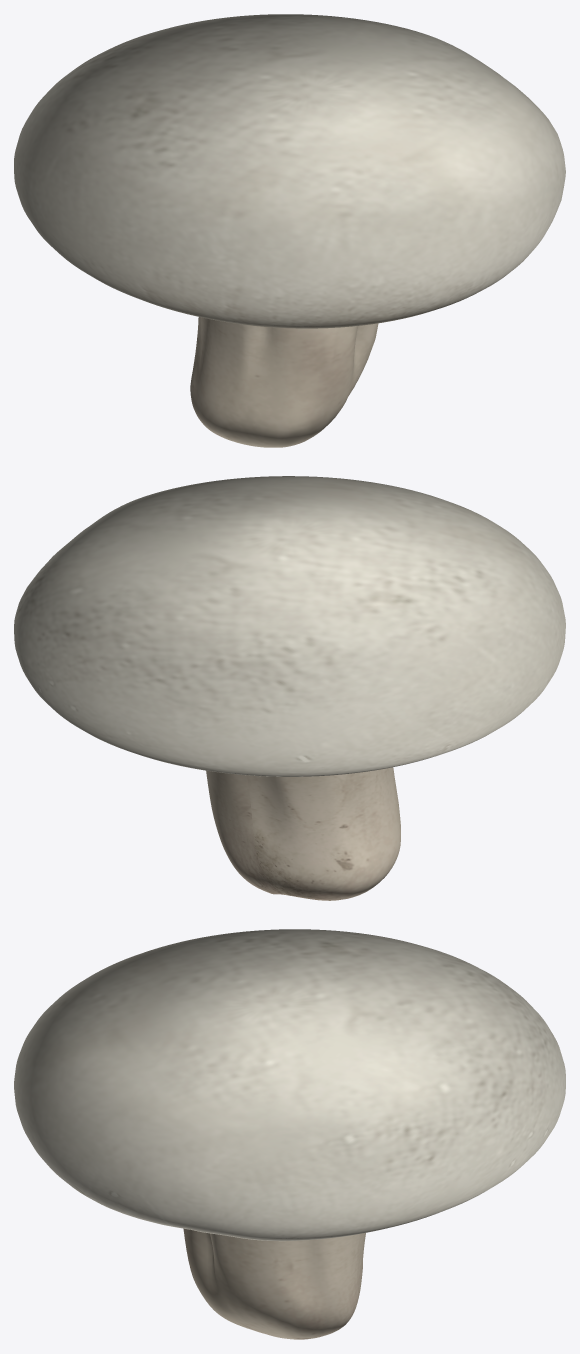
The model's file is SENE_23.fbx.
3 views of the same model, one above another, from view 1: azimuth 30°, elevation 25°; view 2: azimuth 150°, elevation 25°; view 3: azimuth 270°, elevation 25° (orthographic).
Parts seen in each view (by area): view 1: SENE_23; view 2: SENE_23; view 3: SENE_23.
Boxes of the visible parts, bbox=[...] form: SENE_23: bbox=[14, 14, 565, 447]; SENE_23: bbox=[14, 476, 565, 900]; SENE_23: bbox=[14, 929, 565, 1339].
Bounding box in the file's own units: 57.78 × 40.16 × 58.83.
1 material, 1 textured.
